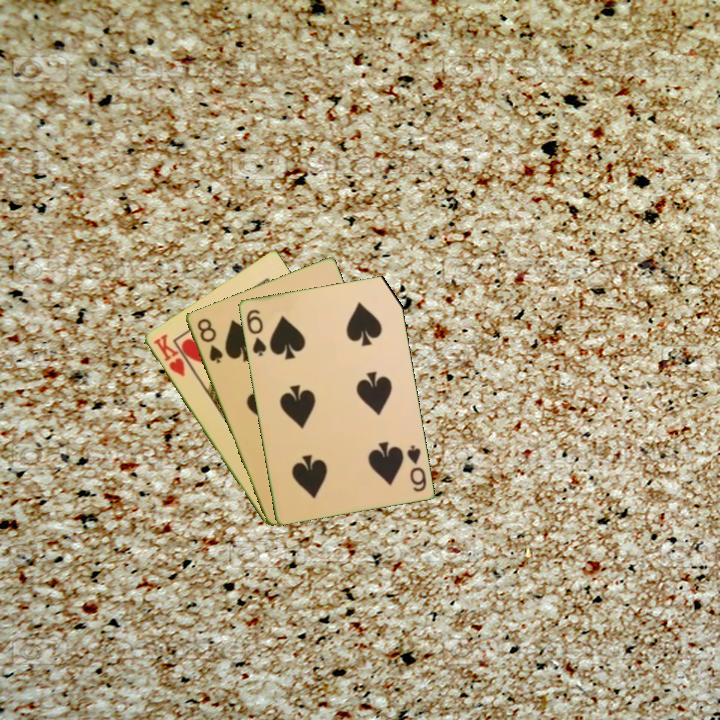6s: (242, 306, 269, 359), (403, 441, 429, 495)
8s: (193, 314, 226, 366)
Kh: (149, 330, 188, 379)
